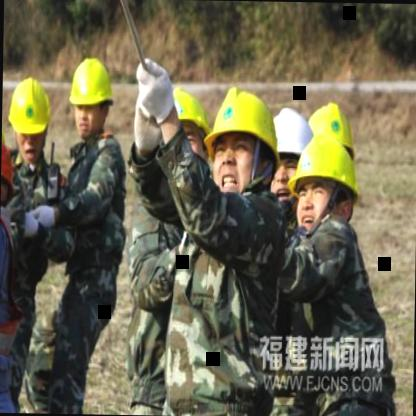helmet: (285, 116, 364, 244), (201, 82, 275, 202), (65, 50, 118, 145), (4, 72, 52, 166), (266, 104, 314, 188), (169, 87, 205, 156)
